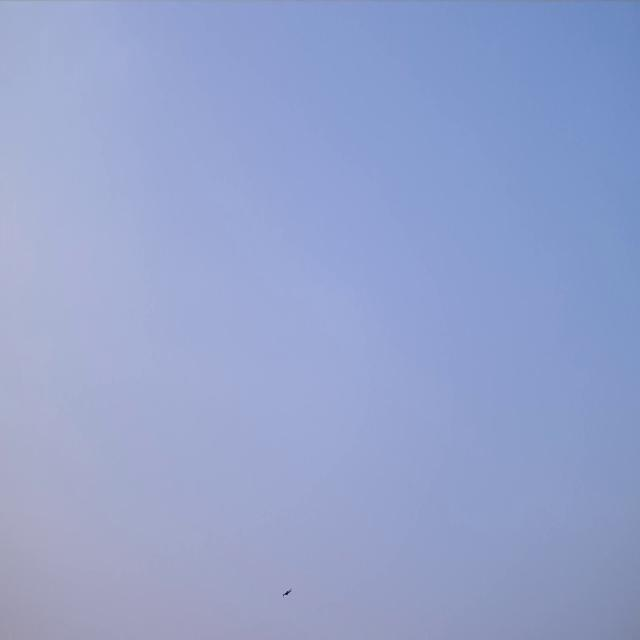UAV: (283, 590, 291, 596)
